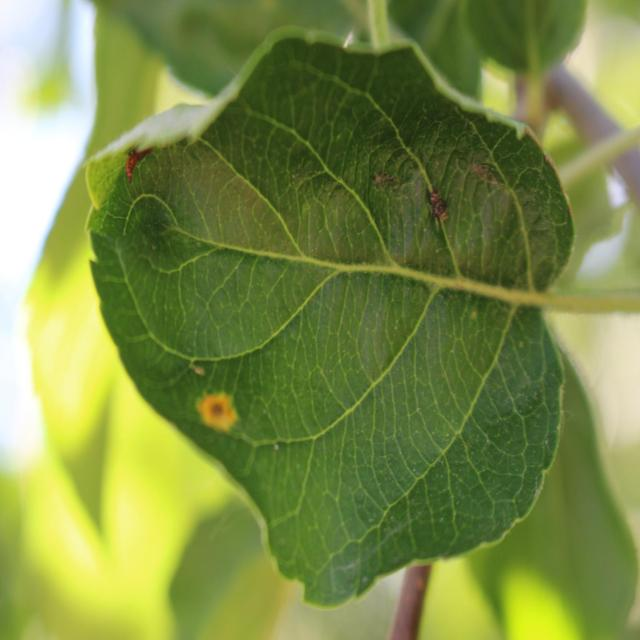Rust: (192, 382, 248, 454)
